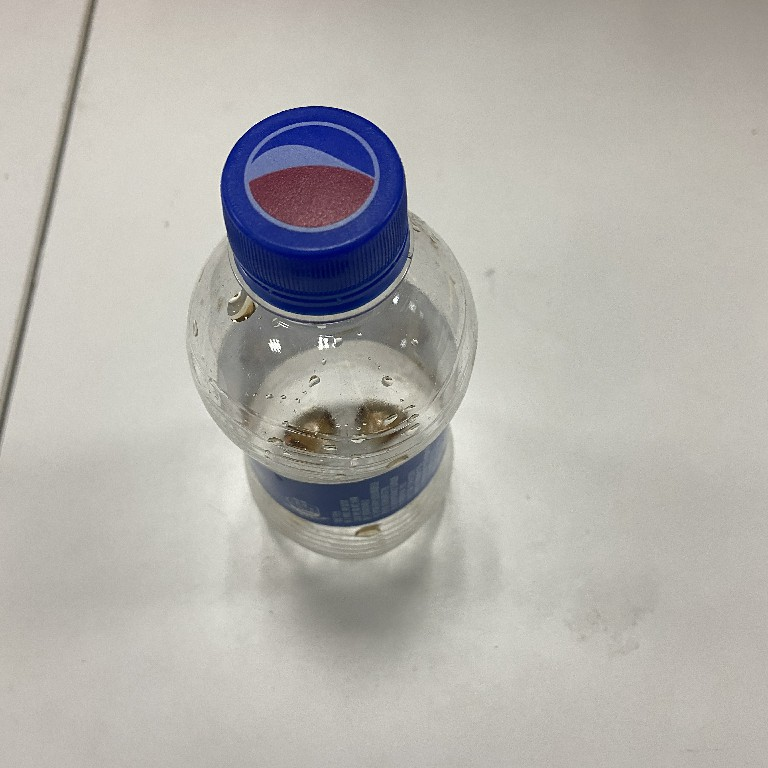bottle: (181, 103, 481, 573)
